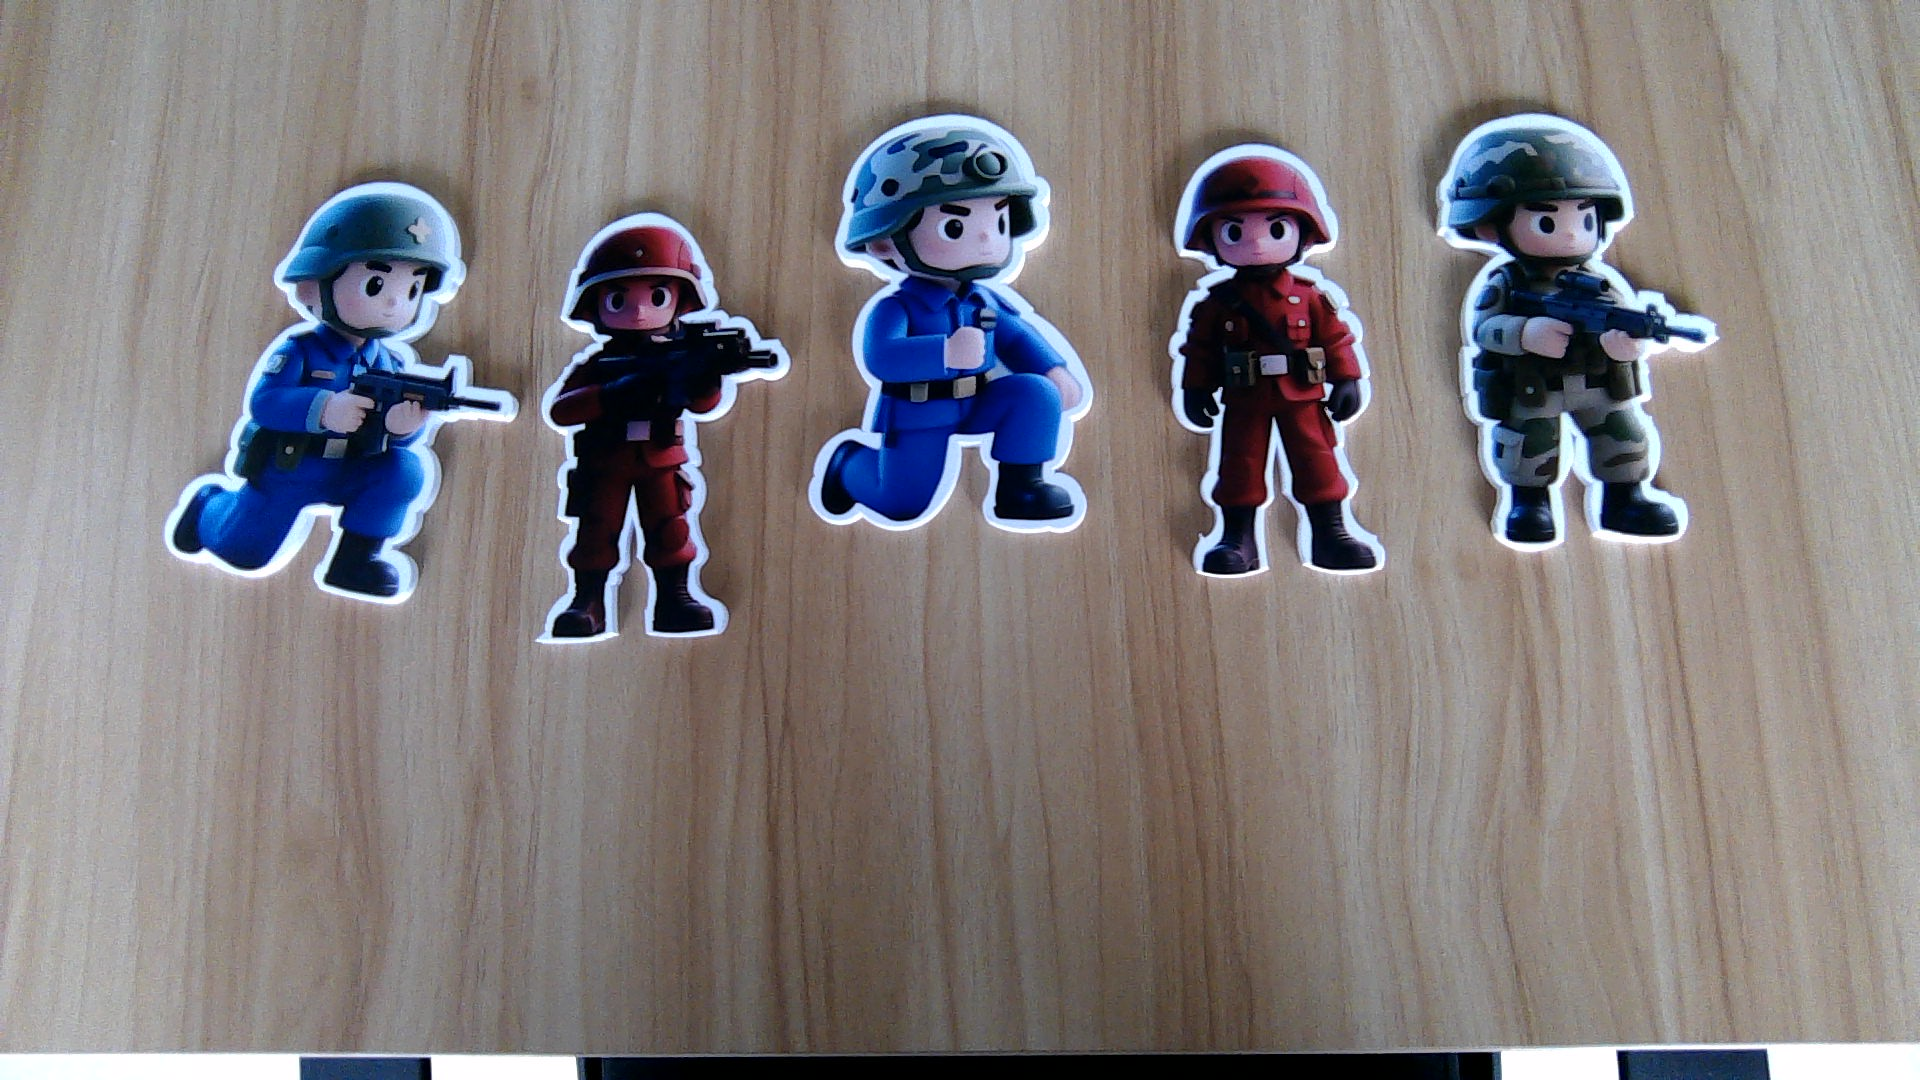友军: (1455, 261, 1716, 553)
敌人1: (533, 334, 789, 642), (1172, 270, 1391, 579)
敌人2: (161, 339, 500, 600), (808, 280, 1097, 541)
